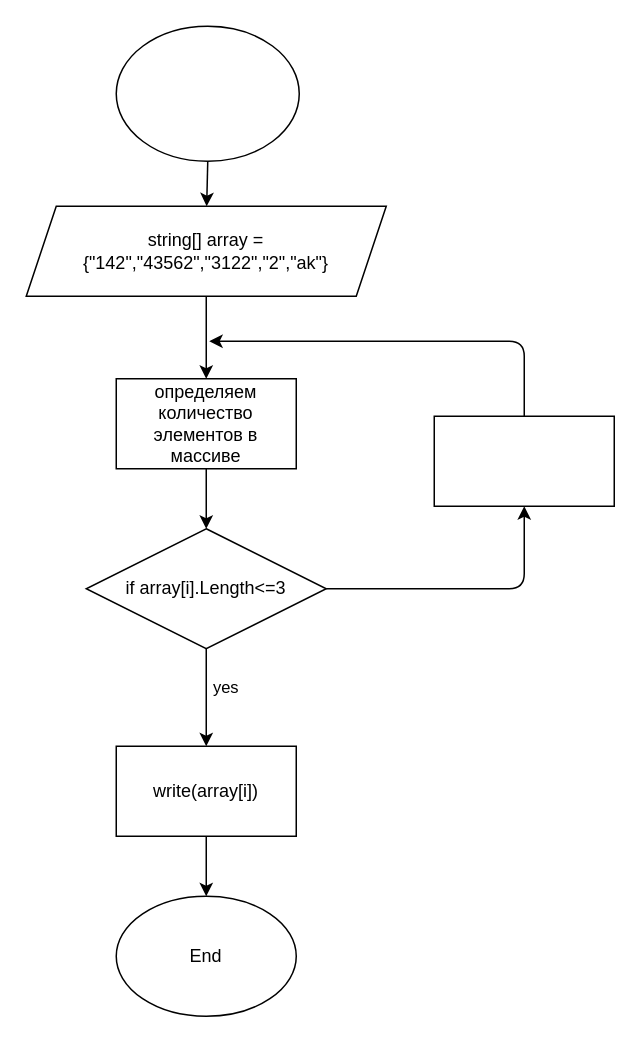
Image size: 641x1043. Some labels were removed from this diagram. The centre of each missing label's shape, as x and y in pixels:
"i++" belongs at (523,460).
"Start" belongs at (207,93).
